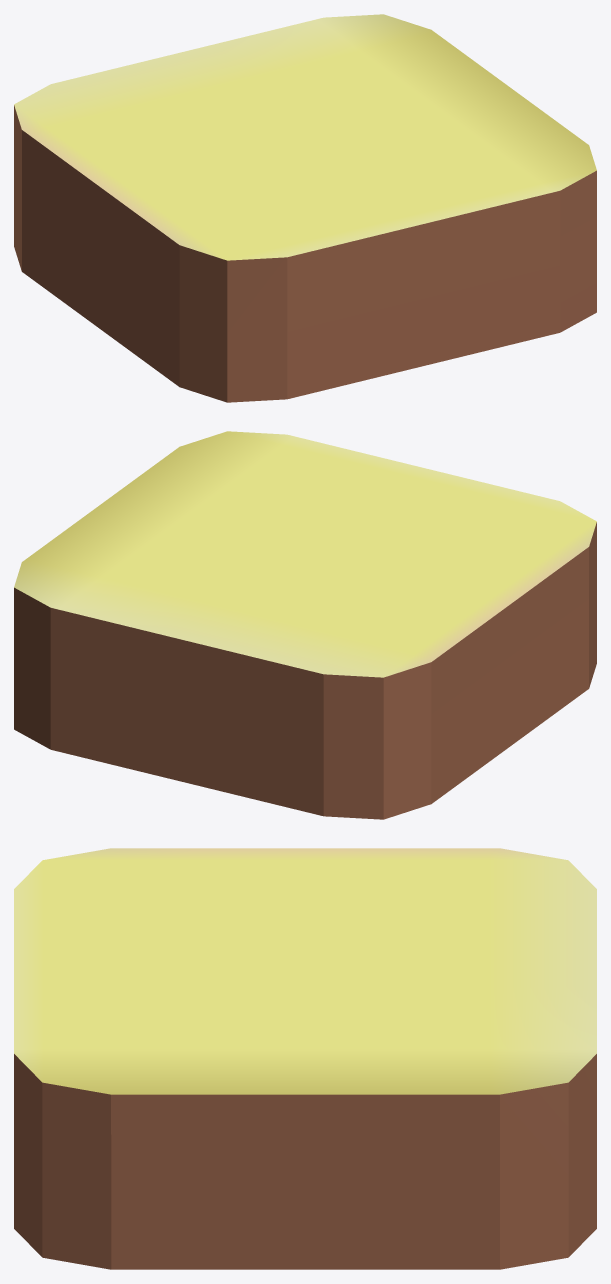
File: IslandTile.Desert.glb
3 renders of one model, top to bottom at view 1: azimuth 30°, elevation 25°; view 2: azimuth 150°, elevation 25°; view 3: azimuth 270°, elevation 25°, orthographic. The views are drawn at different scales.
Parts seen in each view (by area): view 1: IslandTile.Desert; view 2: IslandTile.Desert; view 3: IslandTile.Desert.
Part boxes in pixels (box(x1,y1,x2,y2)): IslandTile.Desert: box(14, 14, 596, 402); IslandTile.Desert: box(14, 431, 596, 819); IslandTile.Desert: box(14, 848, 596, 1269).
Size of the model in its own units: 3 by 0.9943 by 3.
Materials: 1 (1 with a texture image).
